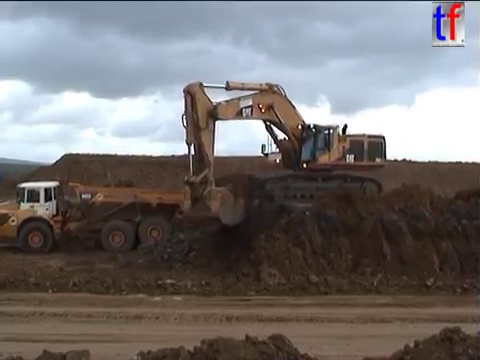excavator: (178, 77, 391, 231)
truck: (1, 178, 203, 256)
